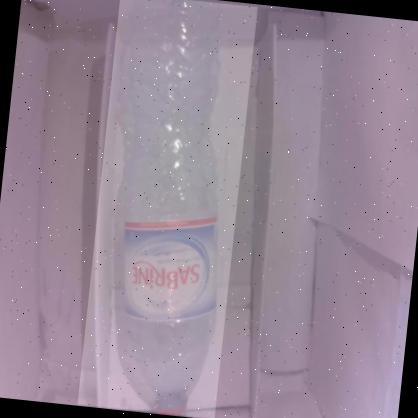bottle: (76, 0, 257, 418)
label: (114, 217, 224, 314)
